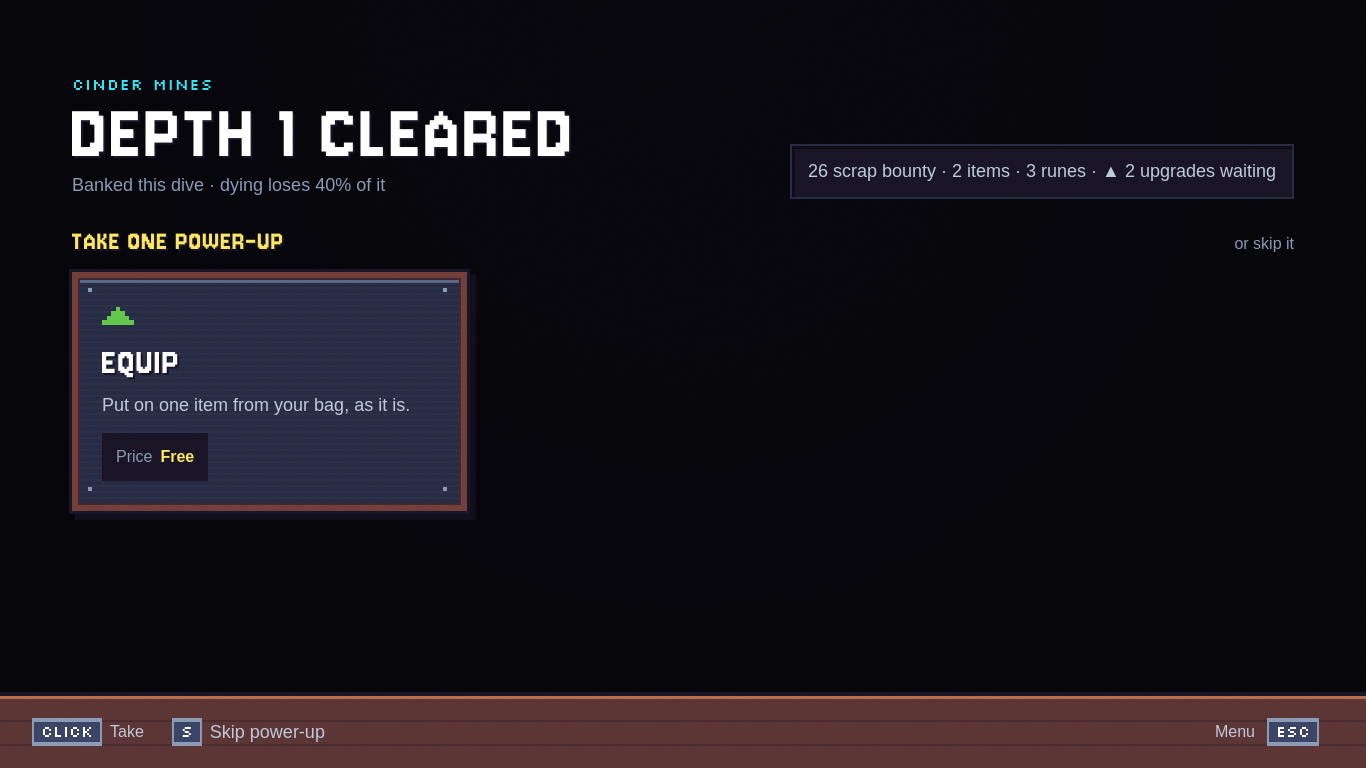
StopScreen (between depths) › A on the finds line opens the sheet: the items with their marks, the runes grouped; an item closes it and opens the pause on it
This screenshot has width=1366, height=768.
Click the button with test id "stop-finds" at (1042, 172), box [790, 144, 1294, 199]
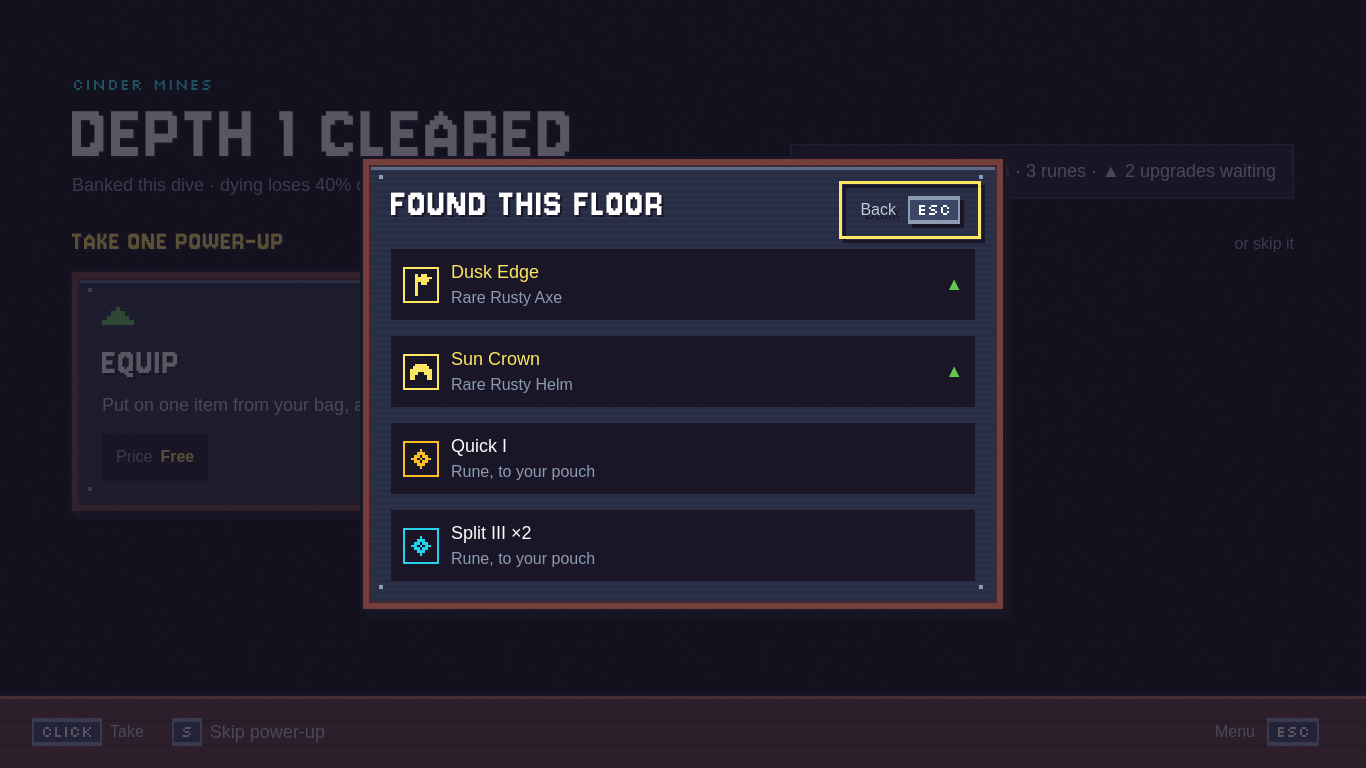
Expected: the button with test id "loot-item" shows "▲"
Expected: the elements with test id "loot-rune" read "Quick IRune, to your pouch", "Split III ×2Rune, to your pouch", in this order, [391, 423, 975, 494]; [391, 510, 975, 581]
Click the button with test id "loot-item" showing "Sun Crown Rare Rusty Helm ▲" at (421, 372), box [391, 336, 975, 407]
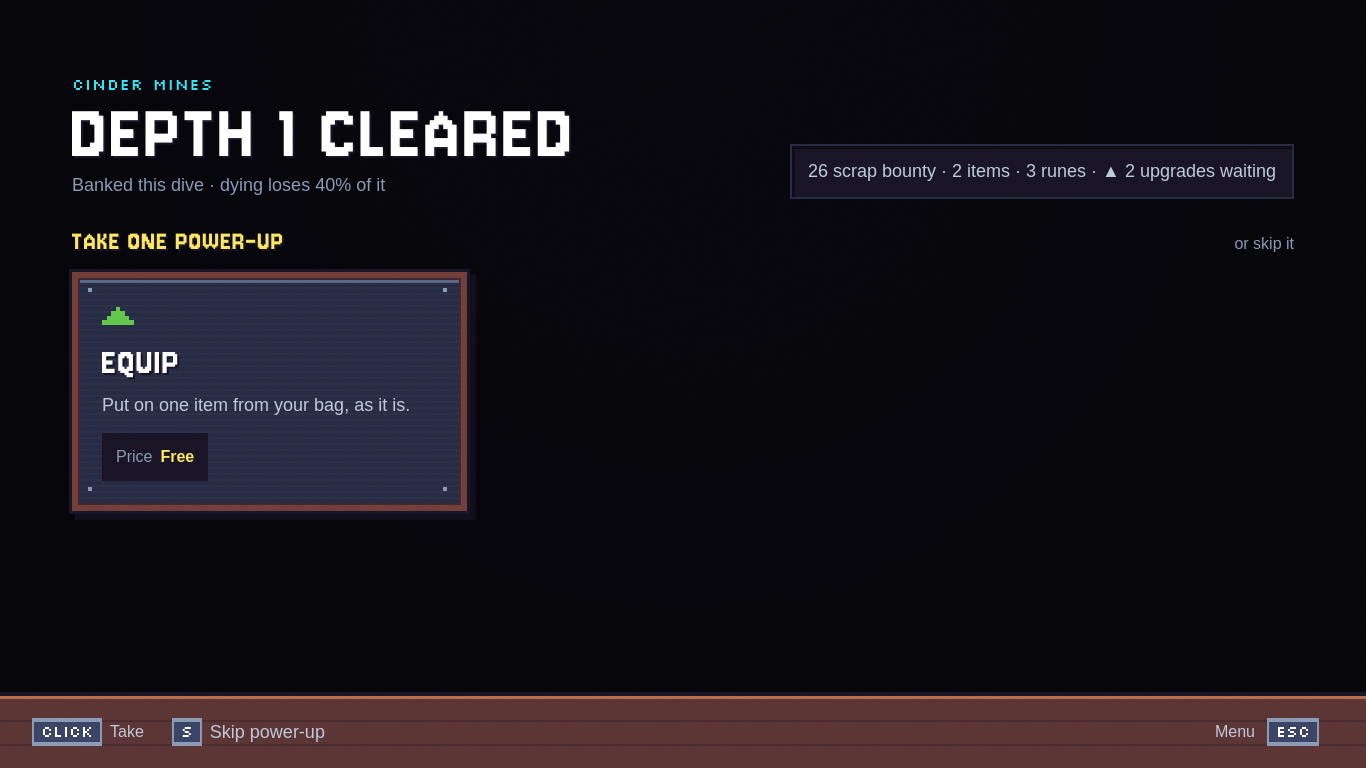
Expected: the dialog with test id "floor-finds" is gone
